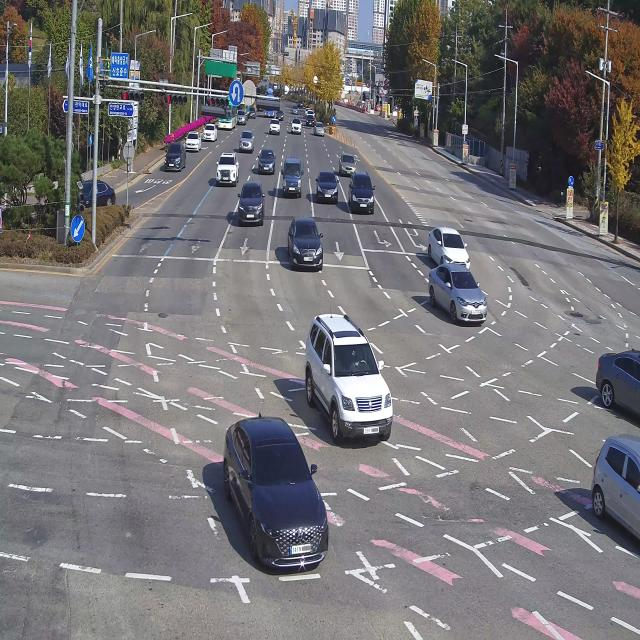Bus: (218, 93, 238, 132), (265, 93, 274, 117)
Car: (218, 406, 332, 586), (301, 302, 398, 465), (578, 410, 640, 559), (418, 248, 488, 333), (583, 330, 640, 428), (278, 211, 328, 285), (421, 210, 471, 267), (236, 172, 274, 234), (69, 173, 120, 214), (347, 169, 382, 221), (312, 168, 348, 209), (156, 139, 188, 181), (212, 147, 240, 186), (256, 149, 282, 179), (335, 149, 359, 178), (184, 123, 202, 159), (238, 130, 256, 157), (203, 120, 218, 145), (267, 115, 281, 140), (236, 106, 248, 126), (289, 116, 300, 136), (311, 122, 325, 136), (248, 103, 256, 121), (305, 113, 315, 126), (291, 104, 298, 117), (276, 109, 284, 120), (307, 108, 317, 116), (296, 98, 303, 108), (304, 106, 310, 115)
Truck: (276, 153, 306, 204), (238, 97, 250, 119)
